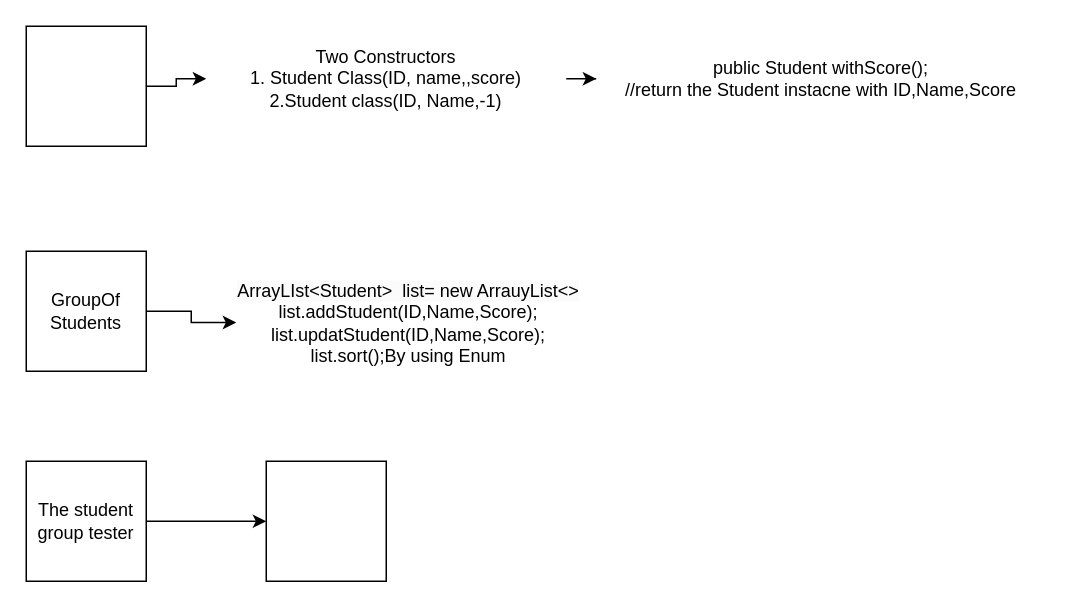
Image size: 1073x608. Some labels were removed from this diagram. The shapes that lost their labels are listed below. From the top down, each one's centre as x and y in pixels, then its label:
At (x=85, y=85): "Student Class".
At (x=325, y=520): "Main();".
